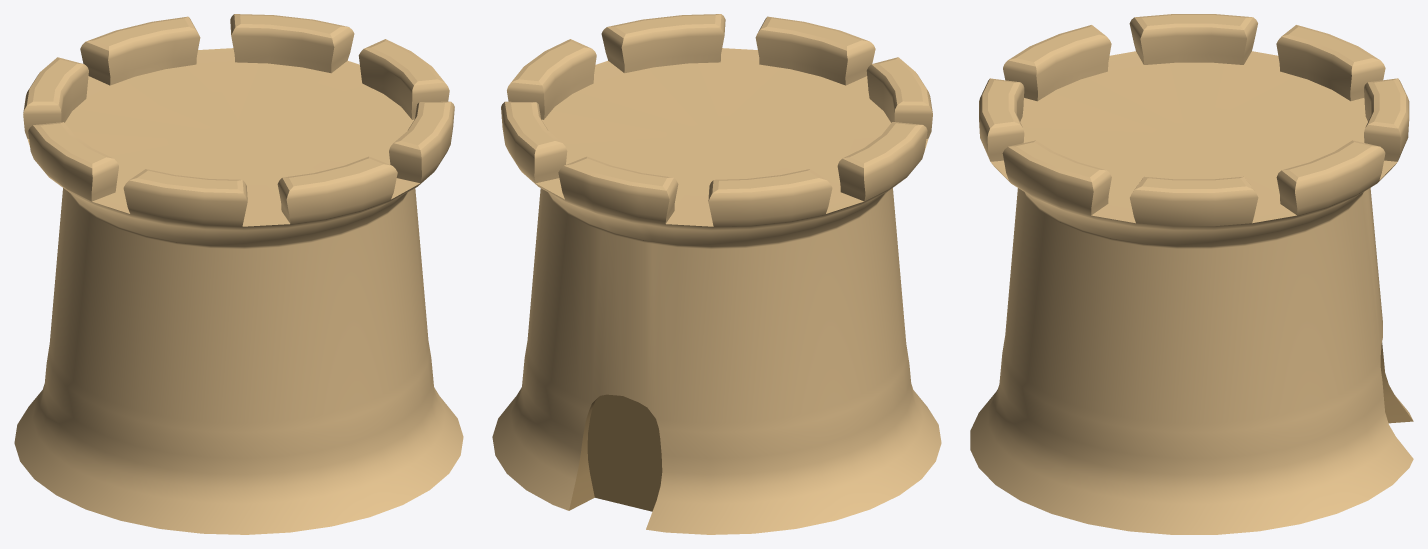
The model's file is CastleTowerMain.fbx.
3 views of the same model, side by side, from view 1: azimuth 30°, elevation 25°; view 2: azimuth 150°, elevation 25°; view 3: azimuth 270°, elevation 25° (orthographic).
Parts seen in each view (by area): view 1: Cylinder.068; view 2: Cylinder.068; view 3: Cylinder.068.
Part boxes in pixels (x1,y1,x2,y2): Cylinder.068: (14,14,463,534); Cylinder.068: (492,14,941,534); Cylinder.068: (970,14,1413,534).
Size of the model in its own units: 586 by 489 by 581.
